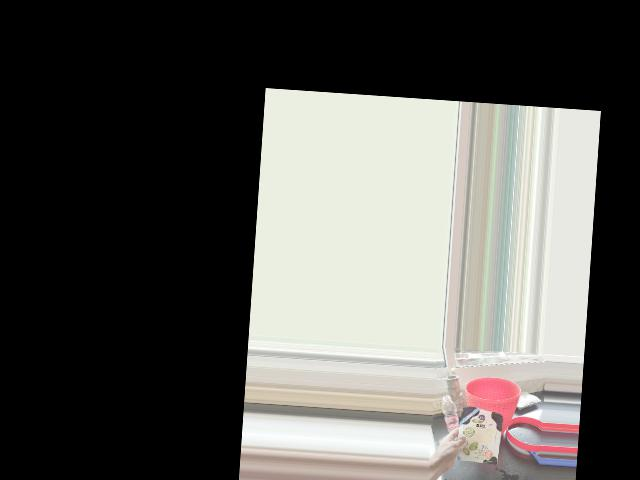cheese: (446, 404, 503, 460)
